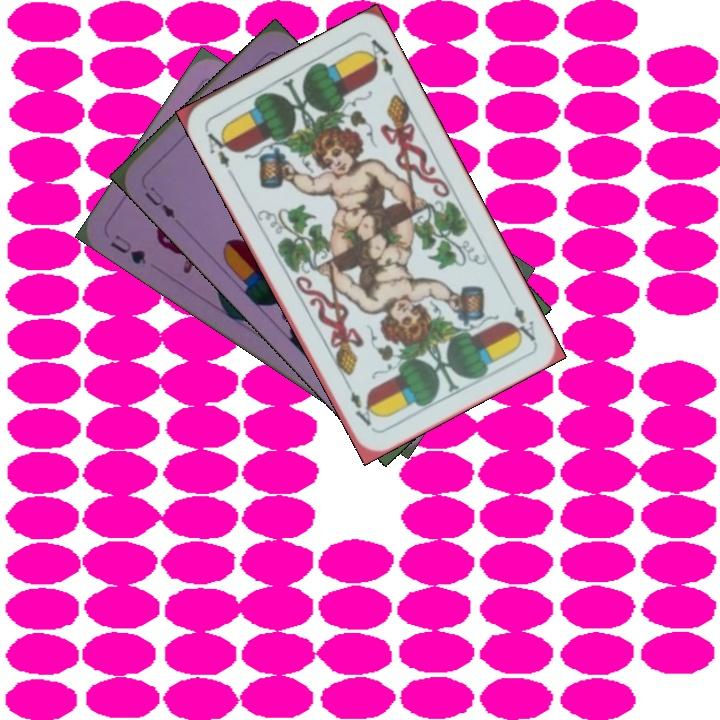EA: (504, 290, 539, 344), (200, 123, 235, 171)
EU: (141, 182, 178, 221)
GU: (106, 230, 149, 268)
